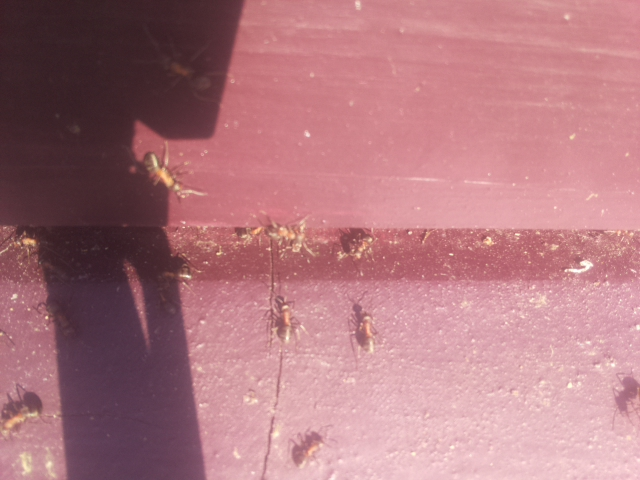ant: (131, 141, 199, 206), (151, 38, 219, 101), (0, 384, 52, 443), (38, 293, 82, 346), (287, 426, 329, 467), (272, 291, 301, 348), (354, 305, 380, 362), (160, 259, 196, 292), (615, 369, 637, 418)
